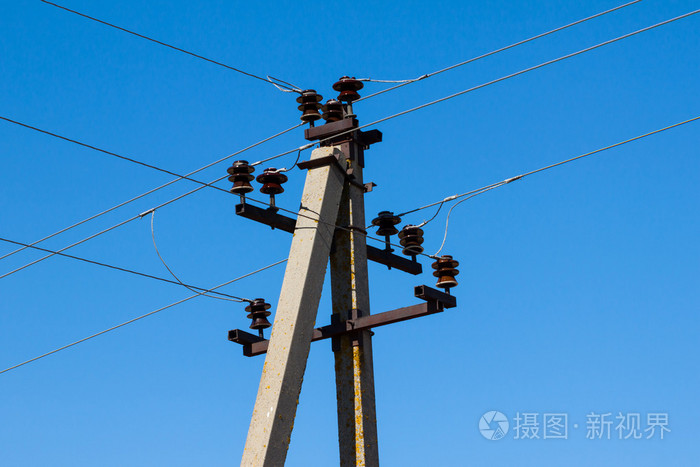insulator: (429, 255, 462, 289), (226, 161, 256, 196), (295, 90, 323, 125), (244, 298, 273, 331), (330, 77, 365, 104), (397, 226, 424, 259), (257, 171, 290, 197), (370, 212, 403, 238), (321, 101, 347, 121)
